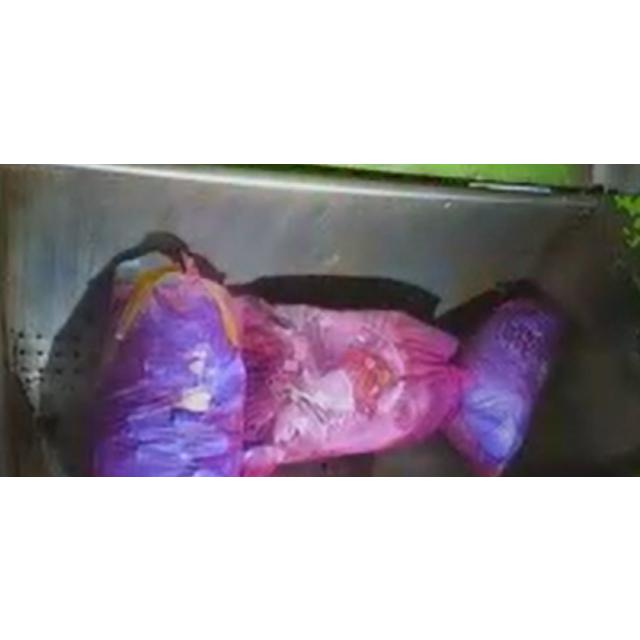other_trashbag: (239, 296, 461, 475), (89, 233, 246, 476), (438, 279, 565, 476)
